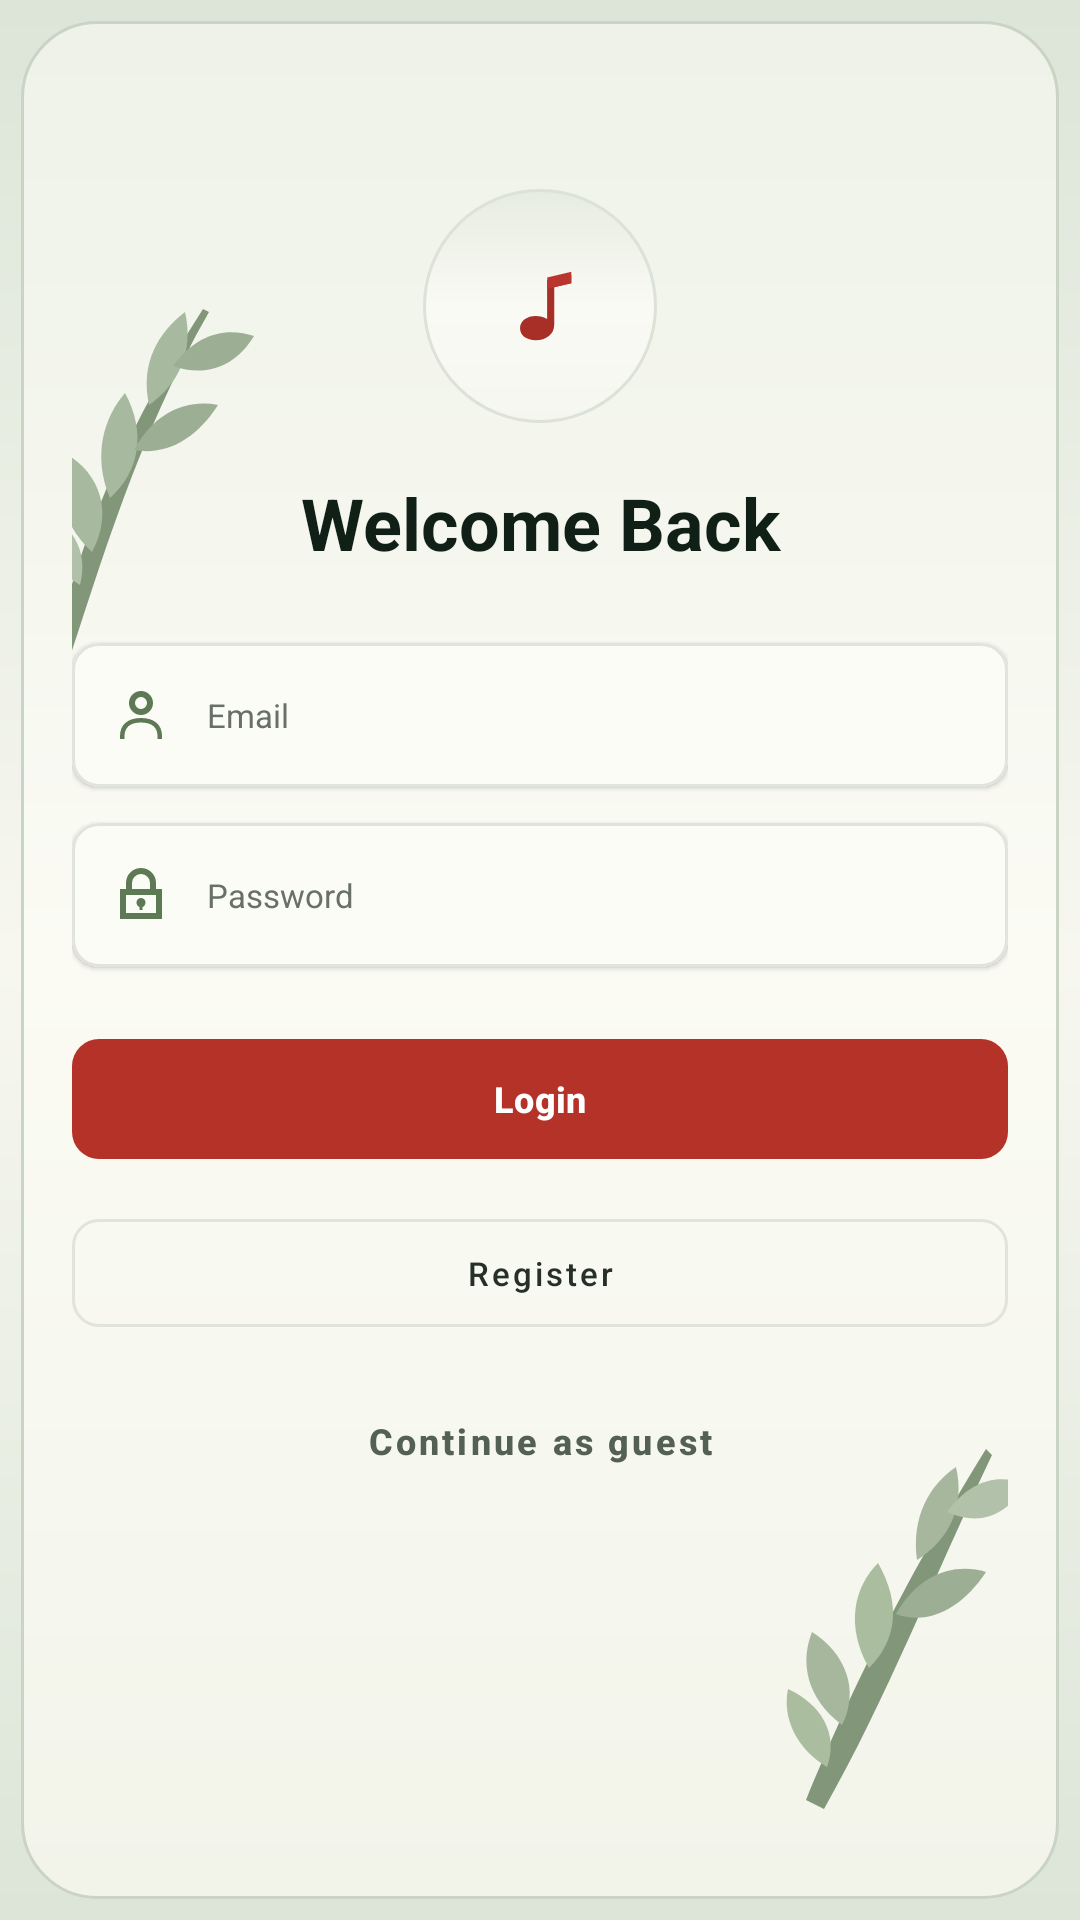

Icons on this 1080×1920 Android screen, each with the point to tap as [x,y]:
leaves bottom: [897,1629]
leaves top: [163,479]
music note: [546,306]
